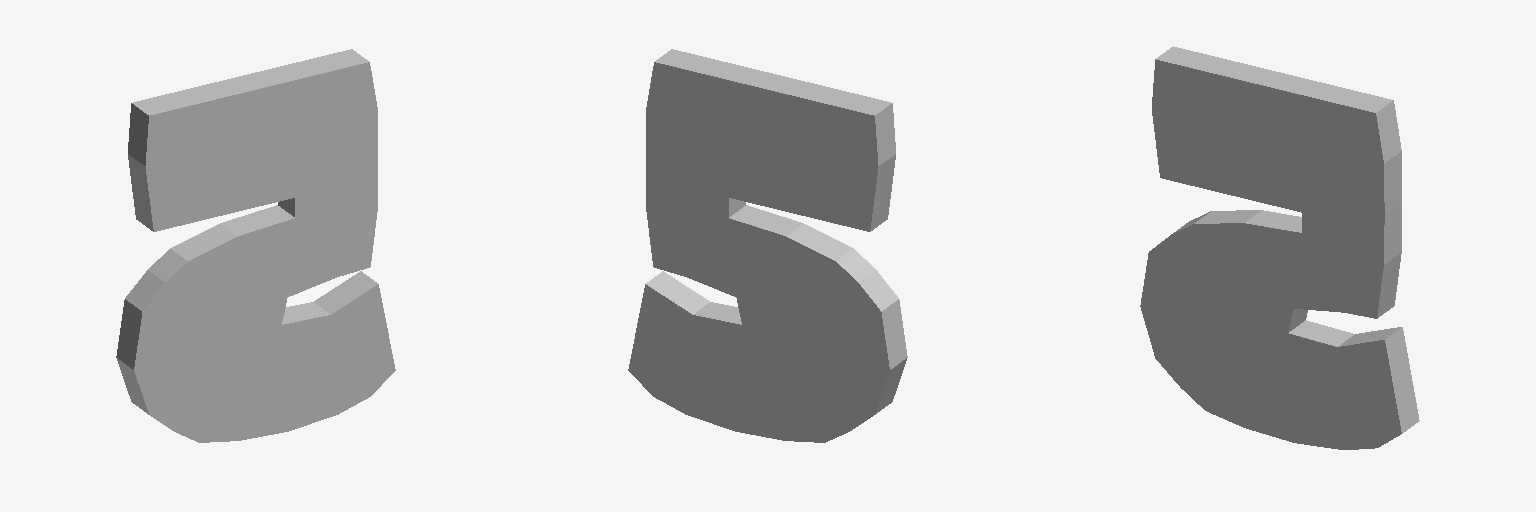
Rendered from number5.obj.
3 views of the same model, side by side, from view 1: azimuth 30°, elevation 25°; view 2: azimuth 150°, elevation 25°; view 3: azimuth 330°, elevation 25° (orthographic).
Parts seen in each view (by area): view 1: 5; view 2: 5; view 3: 5.
Part boxes in pixels (left/top/right/bottom): 5: left=116, top=49, right=395, bottom=442; 5: left=628, top=49, right=907, bottom=442; 5: left=1140, top=46, right=1419, bottom=449.
Size of the model in its own units: 1.7 by 2.17 by 0.2.